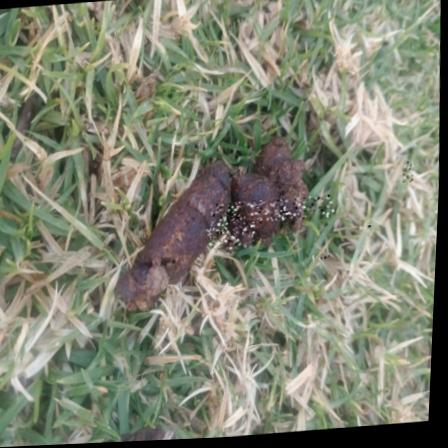dog-poop: (113, 141, 322, 309)
